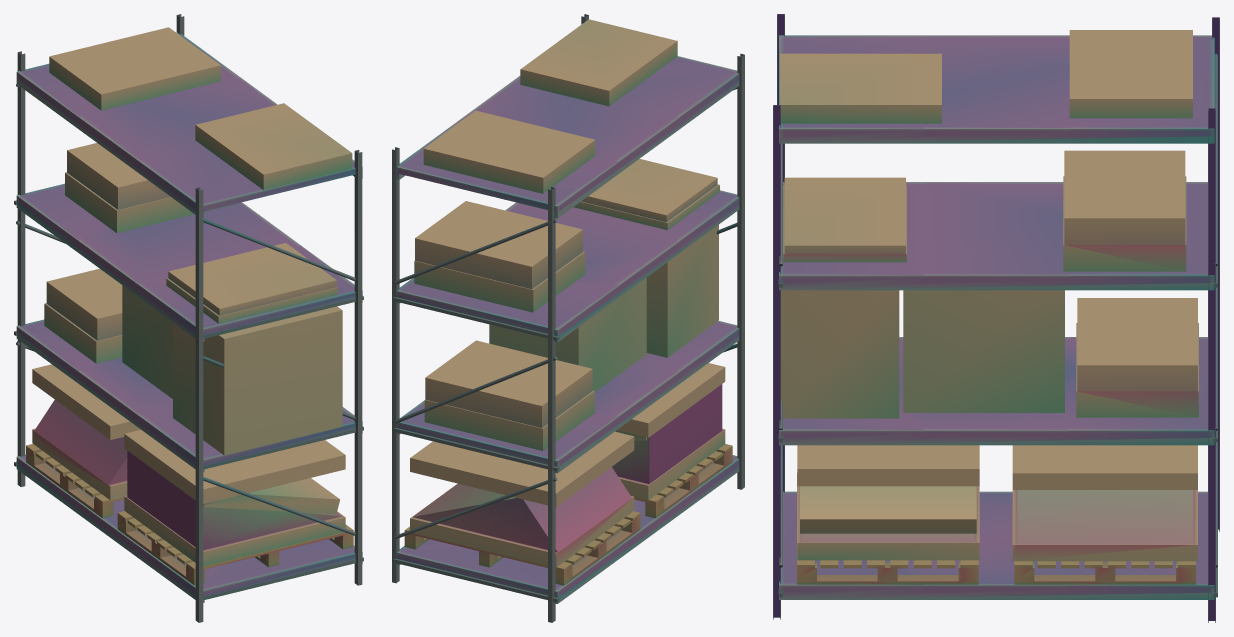
File: simready-rack_composition_a08.glb
3 renders of one model, left to right at view 1: azimuth 30°, elevation 25°; view 2: azimuth 150°, elevation 25°; view 3: azimuth 270°, elevation 25°, orthographic. The views are drawn at different scales.
Visible parts, largest first — view 1: base_layers, broad_pile, deck.003, deck.002, top_wide_stack, deck.001, top_long_stack, base_slabs, lower_layers.001, deck, lower_layers.002, lower_layers (+11 smaller); view 2: base_slabs, deck.003, deck.002, lower_layers.002, lower_layers, deck.001, base_layers, top_wide_stack, top_long_stack, broad_pile, deck, long_pile (+12 smaller); view 3: deck.003, deck.002, base_slabs, base_layers, long_pile, broad_pile, deck.001, lower_layers.002, deck, lower_layers, top_long_stack, top_wide_stack (+6 smaller).
Part boxes in pixels (left/top/right/bottom): base_layers: left=124, top=430, right=345, bottom=566; broad_pile: left=173, top=306, right=342, bottom=455; deck.003: left=16, top=32, right=362, bottom=217; deck.002: left=16, top=183, right=362, bottom=341; top_wide_stack: left=49, top=27, right=220, bottom=110; deck.001: left=16, top=319, right=362, bottom=472; top_long_stack: left=195, top=103, right=352, bottom=190; base_slabs: left=32, top=364, right=140, bottom=500; lower_layers.001: left=166, top=243, right=337, bottom=323; deck: left=16, top=454, right=362, bottom=602; lower_layers.002: left=65, top=143, right=235, bottom=233; lower_layers: left=44, top=268, right=122, bottom=363; base_slabs: left=410, top=431, right=634, bottom=567; deck.003: left=396, top=56, right=739, bottom=218; deck.002: left=396, top=190, right=739, bottom=342; lower_layers.002: left=414, top=201, right=585, bottom=312; lower_layers: left=424, top=340, right=594, bottom=450; deck.001: left=396, top=321, right=739, bottom=473; base_layers: left=612, top=363, right=725, bottom=500; top_wide_stack: left=423, top=110, right=595, bottom=193; top_long_stack: left=520, top=19, right=677, bottom=106; broad_pile: left=646, top=225, right=718, bottom=357; deck: left=396, top=455, right=739, bottom=603; long_pile: left=489, top=277, right=646, bottom=391; deck.003: left=779, top=35, right=1214, bottom=143; deck.002: left=779, top=182, right=1214, bottom=290; base_slabs: left=1012, top=445, right=1197, bottom=561; base_layers: left=797, top=445, right=979, bottom=560; long_pile: left=903, top=290, right=1064, bottom=412; broad_pile: left=781, top=290, right=899, bottom=418; deck.001: left=779, top=337, right=1214, bottom=445; lower_layers.002: left=1063, top=150, right=1186, bottom=271; deck: left=779, top=491, right=1214, bottom=599; lower_layers: left=1076, top=298, right=1198, bottom=417; top_long_stack: left=780, top=53, right=941, bottom=123; top_wide_stack: left=1069, top=30, right=1192, bottom=118.
Size of the model in its own units: 1.26 by 3.11 by 2.46.
